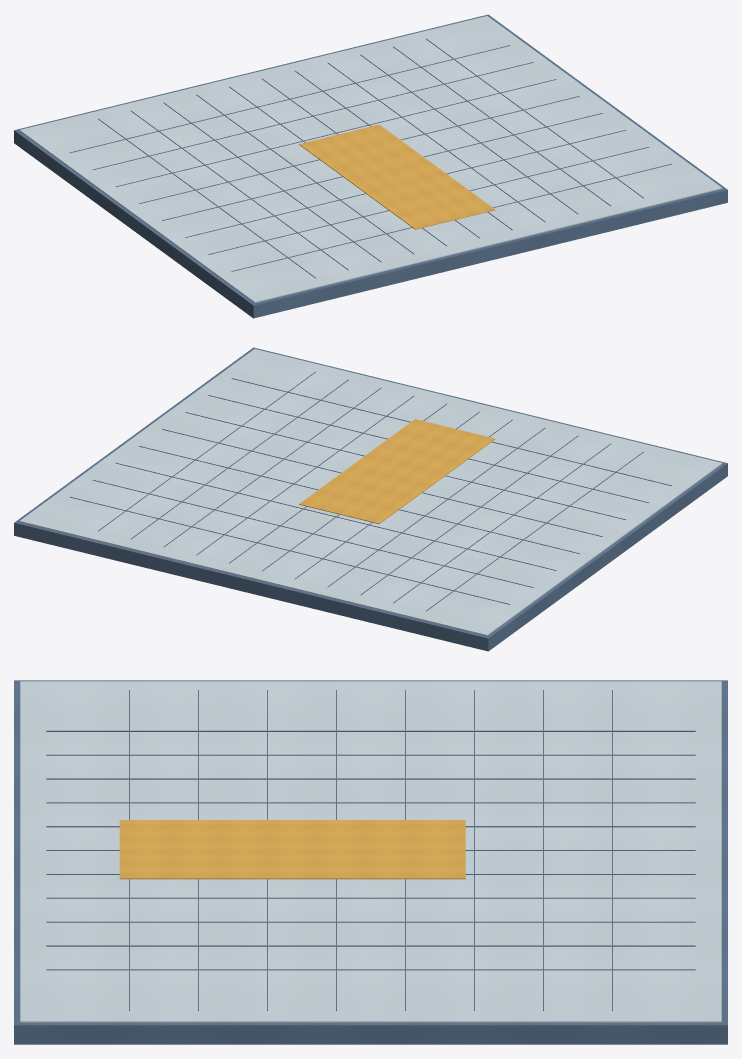
Rendered from atlas100-s053-a07.glb.
The picture shows the model from 3 angles, top to bottom: view 1: azimuth 30°, elevation 25°; view 2: azimuth 150°, elevation 25°; view 3: azimuth 270°, elevation 25°; orthographic projection. The views are drawn at different scales.
Visible parts, largest first — view 1: atlas100-s053-a07:part-001, atlas100-s053-a07:part-000, atlas100-s053-a07:part-021, atlas100-s053-a07:part-013, atlas100-s053-a07:part-015, atlas100-s053-a07:part-014, atlas100-s053-a07:part-020, atlas100-s053-a07:part-018, atlas100-s053-a07:part-019, atlas100-s053-a07:part-017, atlas100-s053-a07:part-016; view 2: atlas100-s053-a07:part-001, atlas100-s053-a07:part-000, atlas100-s053-a07:part-021, atlas100-s053-a07:part-013, atlas100-s053-a07:part-014, atlas100-s053-a07:part-015, atlas100-s053-a07:part-020, atlas100-s053-a07:part-019, atlas100-s053-a07:part-018, atlas100-s053-a07:part-016, atlas100-s053-a07:part-017; view 3: atlas100-s053-a07:part-001, atlas100-s053-a07:part-000, atlas100-s053-a07:part-021, atlas100-s053-a07:part-004, atlas100-s053-a07:part-010, atlas100-s053-a07:part-011, atlas100-s053-a07:part-012, atlas100-s053-a07:part-005, atlas100-s053-a07:part-009, atlas100-s053-a07:part-003, atlas100-s053-a07:part-002, atlas100-s053-a07:part-006.
Boxes of the visible parts, left/top/right/bottom form: atlas100-s053-a07:part-001: left=19, top=16, right=722, bottom=302; atlas100-s053-a07:part-000: left=14, top=14, right=727, bottom=318; atlas100-s053-a07:part-021: left=299, top=124, right=495, bottom=229; atlas100-s053-a07:part-013: left=70, top=45, right=510, bottom=152; atlas100-s053-a07:part-015: left=115, top=79, right=556, bottom=186; atlas100-s053-a07:part-014: left=93, top=62, right=533, bottom=169; atlas100-s053-a07:part-020: left=231, top=164, right=671, bottom=271; atlas100-s053-a07:part-018: left=185, top=130, right=626, bottom=237; atlas100-s053-a07:part-019: left=208, top=147, right=648, bottom=254; atlas100-s053-a07:part-017: left=162, top=113, right=602, bottom=220; atlas100-s053-a07:part-016: left=139, top=96, right=579, bottom=203; atlas100-s053-a07:part-001: left=19, top=349, right=722, bottom=635; atlas100-s053-a07:part-000: left=14, top=347, right=727, bottom=651; atlas100-s053-a07:part-021: left=299, top=419, right=494, bottom=523; atlas100-s053-a07:part-013: left=70, top=497, right=510, bottom=604; atlas100-s053-a07:part-014: left=93, top=480, right=533, bottom=587; atlas100-s053-a07:part-015: left=115, top=463, right=556, bottom=570; atlas100-s053-a07:part-020: left=231, top=378, right=671, bottom=485; atlas100-s053-a07:part-019: left=208, top=395, right=648, bottom=502; atlas100-s053-a07:part-018: left=185, top=412, right=626, bottom=519; atlas100-s053-a07:part-016: left=139, top=446, right=579, bottom=553; atlas100-s053-a07:part-017: left=162, top=429, right=602, bottom=536; atlas100-s053-a07:part-001: left=20, top=681, right=721, bottom=1022; atlas100-s053-a07:part-000: left=14, top=680, right=727, bottom=1044; atlas100-s053-a07:part-021: left=119, top=820, right=465, bottom=879; atlas100-s053-a07:part-004: left=46, top=778, right=695, bottom=779; atlas100-s053-a07:part-010: left=46, top=921, right=695, bottom=922; atlas100-s053-a07:part-011: left=46, top=945, right=695, bottom=946; atlas100-s053-a07:part-012: left=46, top=969, right=695, bottom=970; atlas100-s053-a07:part-005: left=46, top=802, right=695, bottom=803; atlas100-s053-a07:part-009: left=46, top=897, right=695, bottom=898; atlas100-s053-a07:part-003: left=46, top=754, right=695, bottom=755; atlas100-s053-a07:part-002: left=46, top=730, right=695, bottom=731; atlas100-s053-a07:part-006: left=46, top=826, right=695, bottom=827.
Bounding box in the file's own units: 13.02 × 0.404 × 11.39.
3 materials, 3 textured.
